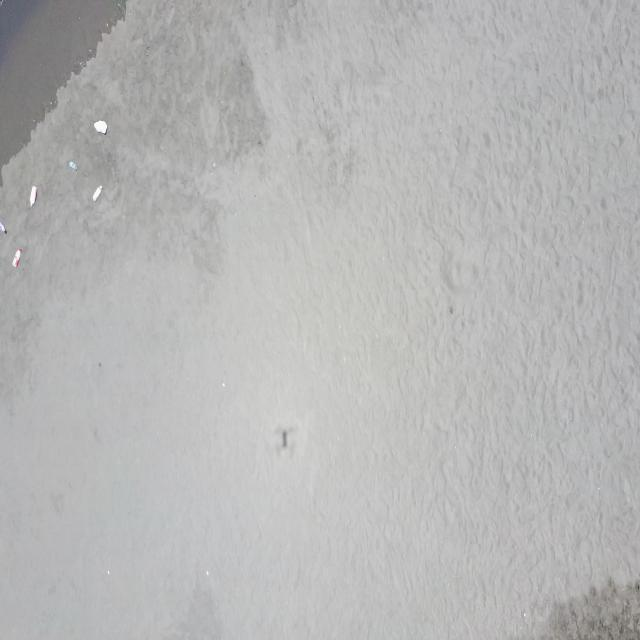plastic-bottle: (93, 118, 108, 136), (12, 247, 23, 268), (28, 184, 38, 207), (92, 185, 103, 201), (66, 159, 78, 171), (0, 219, 8, 234)
